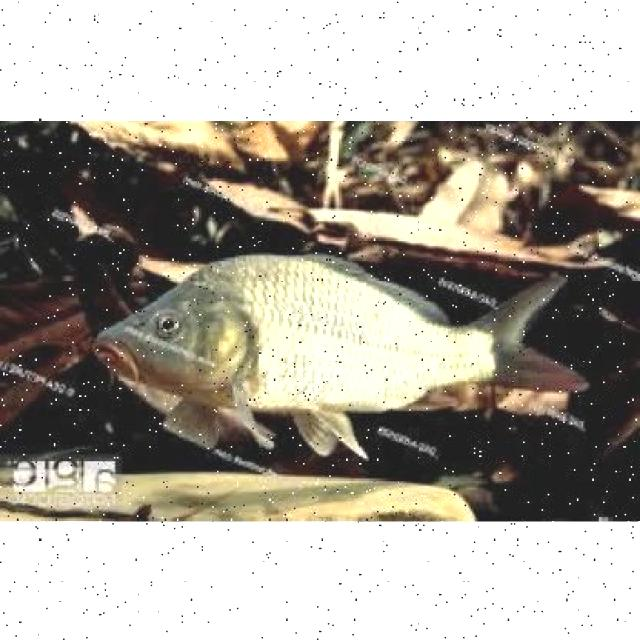ikan-mas: (98, 244, 570, 426)
